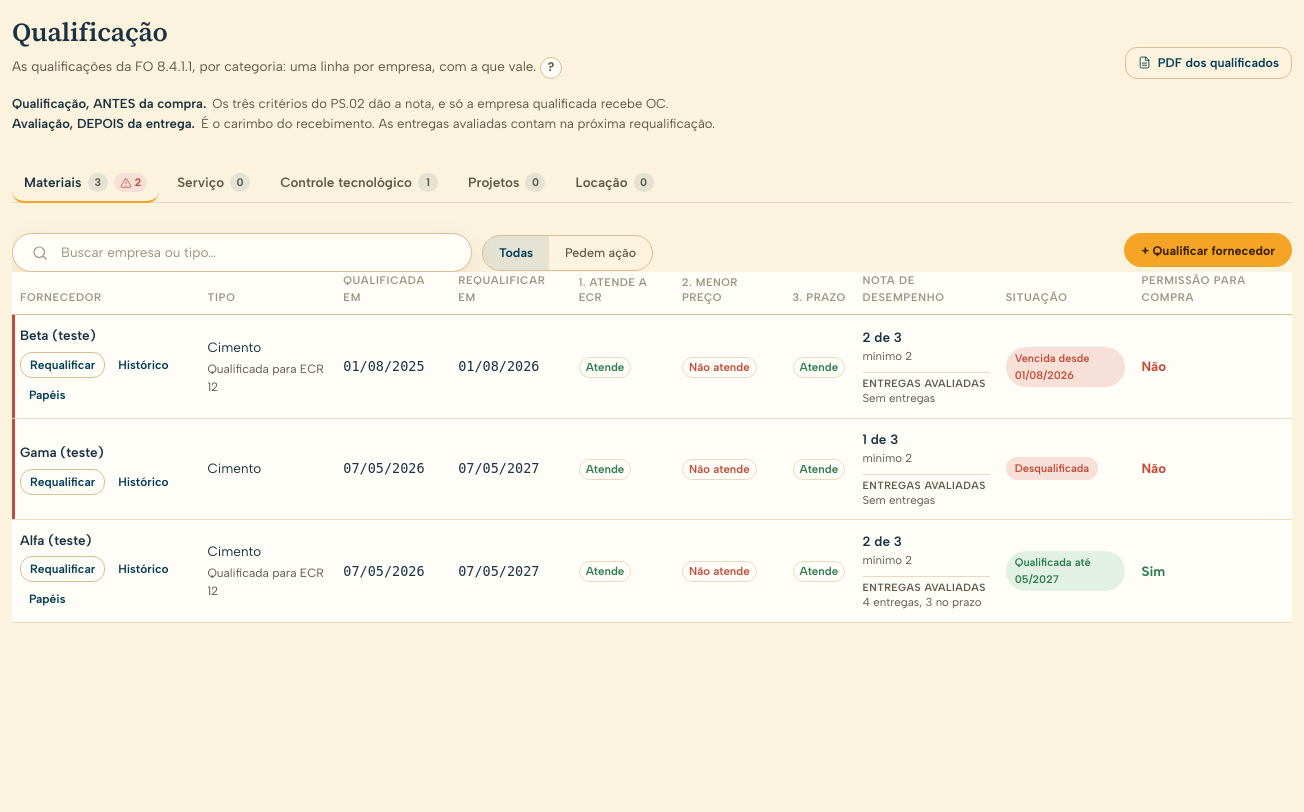
Test case: CTO-D661 — as cinco abas › a aba vazia diz que está vazia
The width and height of the screenshot is (1304, 812).
Click the tab "Locação 0" at (615, 184), box [564,164,666,203]
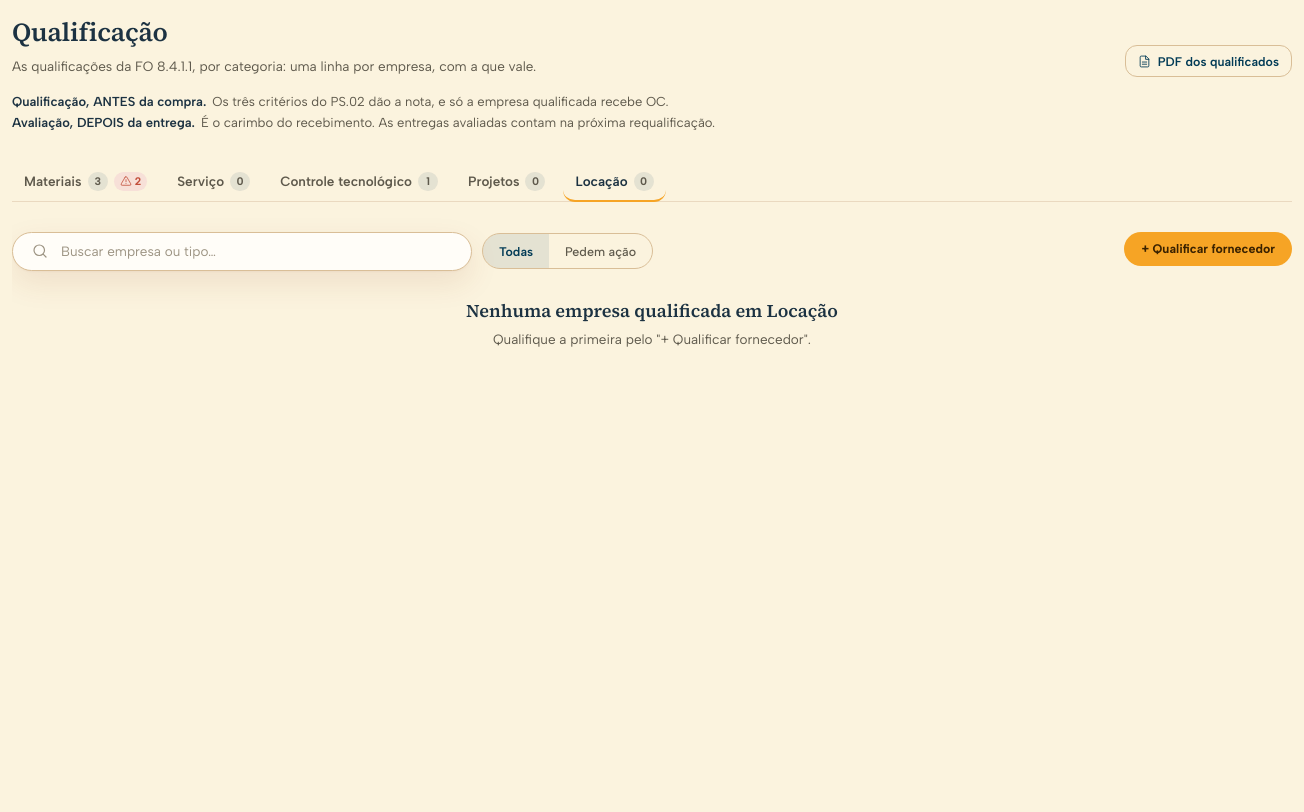
Expected: the text "Nenhuma empresa qualificada em Locação" is shown, [466,298,838,323]
